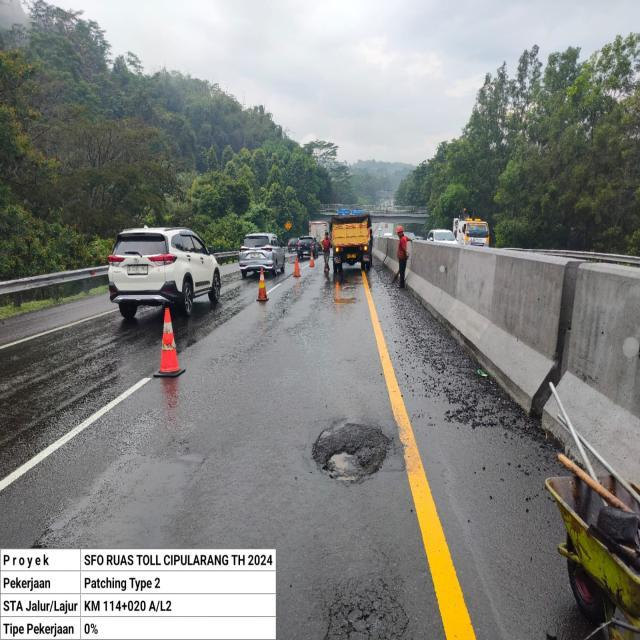Buraco: (310, 416, 394, 485), (330, 295, 358, 306), (342, 285, 358, 291)
